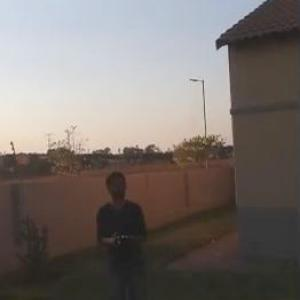follow: (96, 168, 158, 299)
